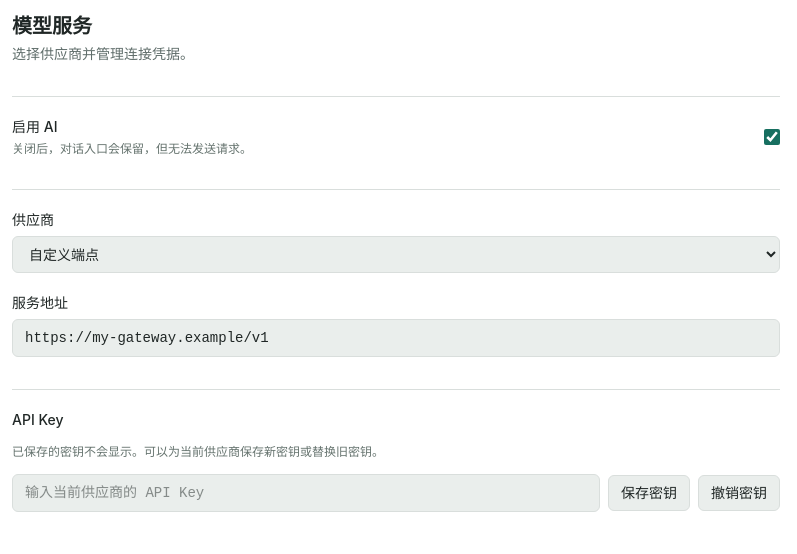
Test: center controls › offers minimax with its default model and an optional address
Select "MiniMax" in the dropdown with id "ai-provider" at (396, 254), box [12,236,780,273]
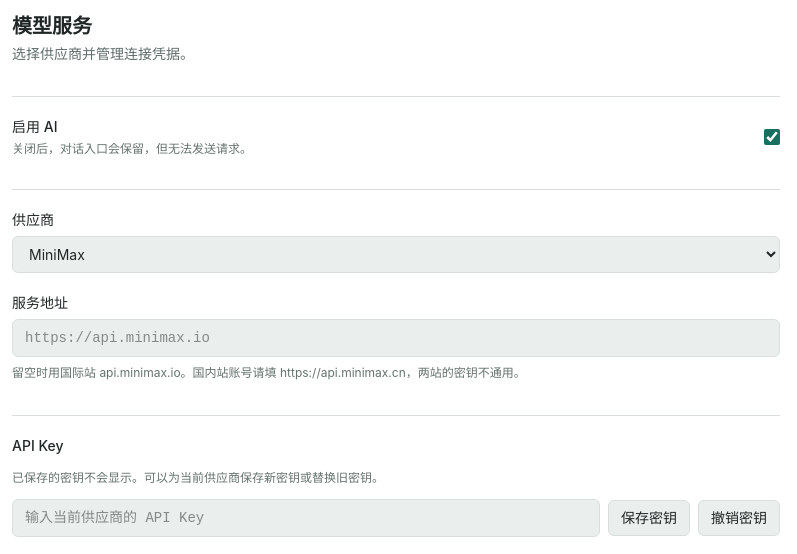
Now the field with id "ai-endpoint" is empty, box [12,319,780,357]
Now the text "api.minimax.cn" is shown, box [12,365,526,380]
